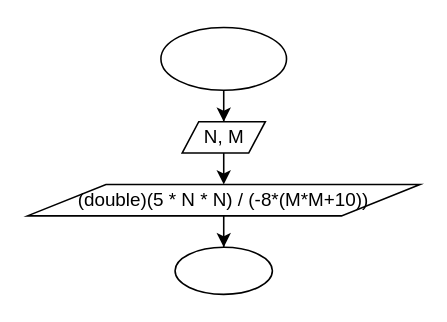
This 447x322 diagram has some shape labels left out. Here are the shapes that lost their labels. From the top down, the box of each, then its label:
(159, 26, 287, 90): Начало
(173, 246, 272, 294): Конец
